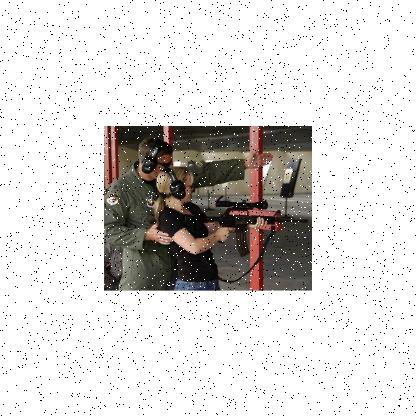gun: (180, 206, 308, 256)
